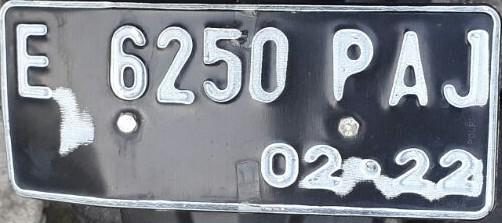clone-license-plate: (1, 1, 493, 219)
